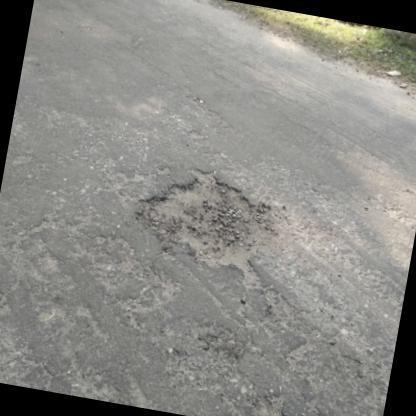pothole: (145, 168, 278, 270), (248, 391, 288, 416)
